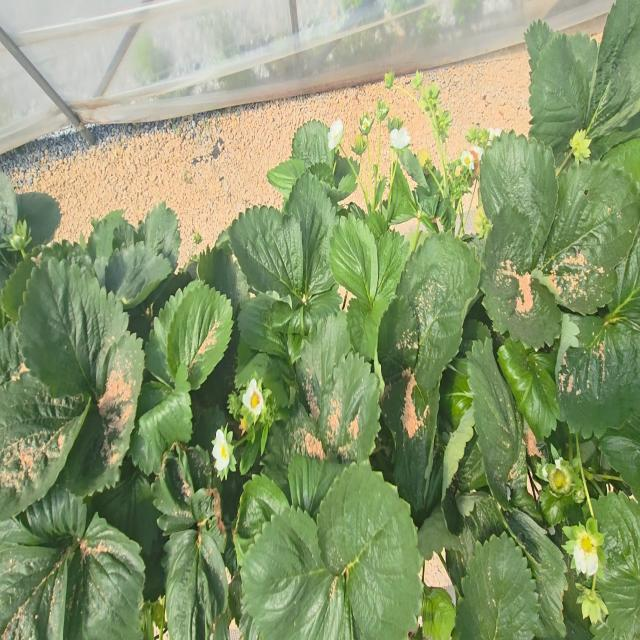Flowers: (563, 518, 604, 578), (212, 426, 236, 480), (243, 378, 264, 417), (569, 129, 591, 165), (390, 127, 410, 149), (328, 120, 343, 149), (360, 113, 374, 136), (376, 98, 389, 122), (460, 150, 474, 169), (488, 128, 502, 140)
Leaves: (317, 463, 421, 639), (538, 160, 640, 315), (19, 259, 128, 396), (241, 509, 354, 639), (0, 366, 89, 520), (397, 232, 480, 391), (65, 331, 144, 496), (482, 204, 560, 348), (480, 132, 558, 269), (526, 21, 599, 164), (466, 339, 527, 507), (556, 316, 640, 437), (65, 513, 145, 639), (0, 521, 77, 639), (458, 532, 539, 639), (382, 369, 438, 514), (509, 508, 567, 636), (167, 281, 232, 388), (165, 529, 228, 639), (593, 492, 640, 639), (590, 0, 640, 137), (229, 206, 303, 296), (285, 171, 335, 299), (498, 339, 559, 440), (296, 311, 351, 423), (325, 351, 380, 461), (130, 380, 192, 474), (262, 405, 326, 487), (94, 469, 158, 550), (330, 215, 378, 309), (378, 273, 419, 383), (104, 241, 172, 307), (287, 289, 342, 363), (145, 289, 183, 386), (153, 450, 197, 533), (197, 245, 248, 316), (288, 456, 344, 519), (25, 484, 87, 540), (236, 475, 290, 539), (603, 232, 640, 325), (239, 295, 292, 359), (600, 420, 640, 500), (442, 407, 474, 498), (140, 201, 181, 269), (347, 297, 388, 361), (374, 230, 409, 302), (87, 210, 132, 264), (0, 255, 35, 322), (418, 506, 461, 559), (292, 120, 334, 174), (463, 497, 506, 542), (267, 158, 307, 199)
Strawberries: (576, 588, 608, 623), (6, 220, 32, 258), (474, 199, 491, 238), (548, 466, 571, 494), (353, 133, 367, 156), (417, 148, 431, 167), (384, 71, 395, 88)
